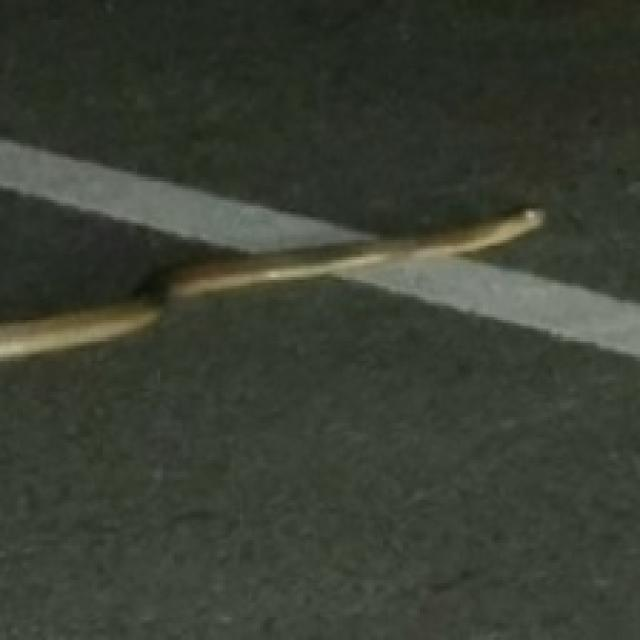king cobra: (0, 209, 543, 357)
